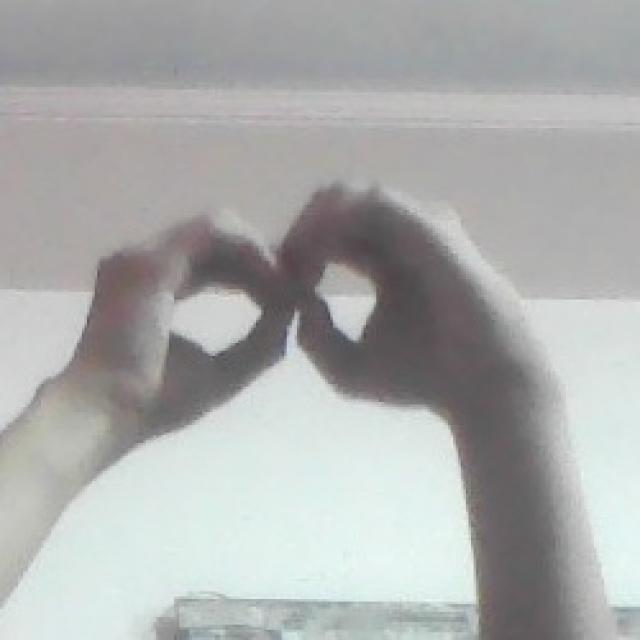Alphabet-B: (53, 173, 550, 451)
